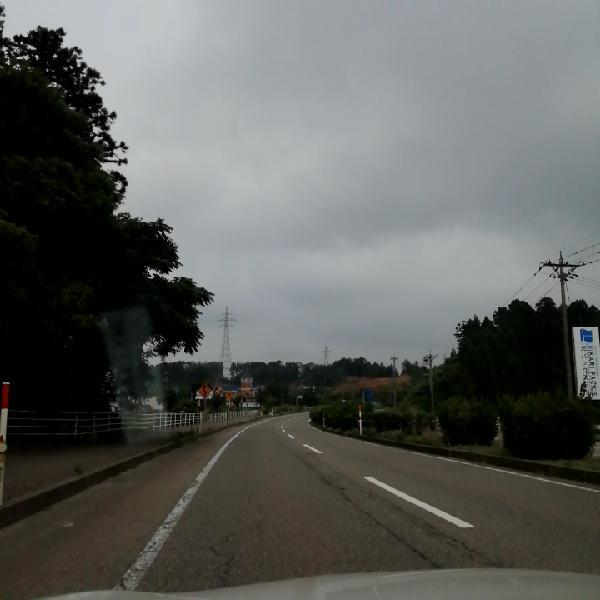D00: (291, 444, 487, 563), (198, 527, 247, 584)
